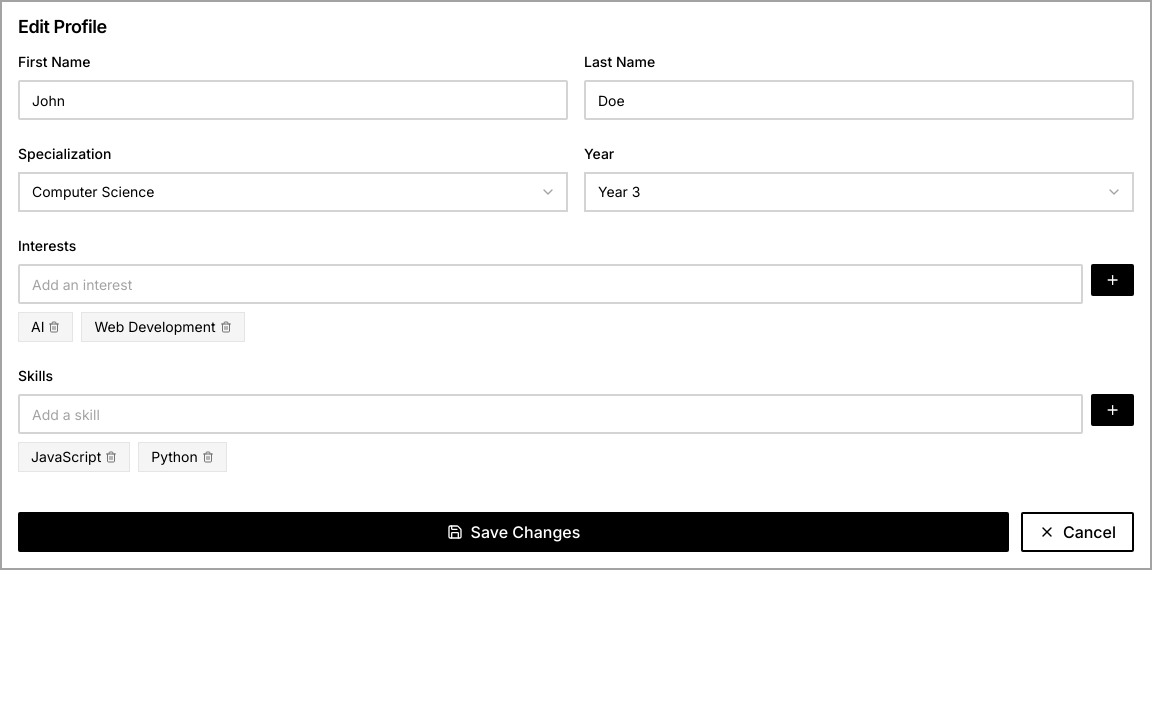
Scenario: ProfileForm › Student Profile Form › allows adding new interests
Type "Machine Learning" into the field with placeholder "Add an interest" at (550, 284), box [18,264,1083,304]
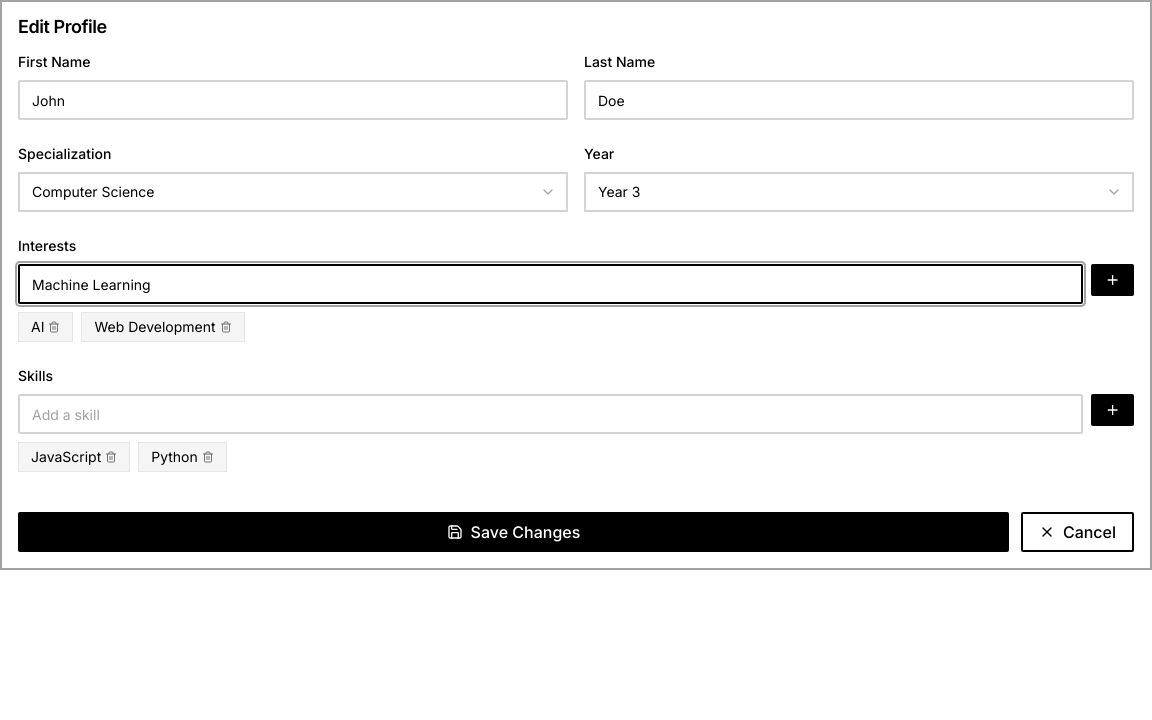
Click the 1st button at (1112, 280), box [1091,264,1134,296]
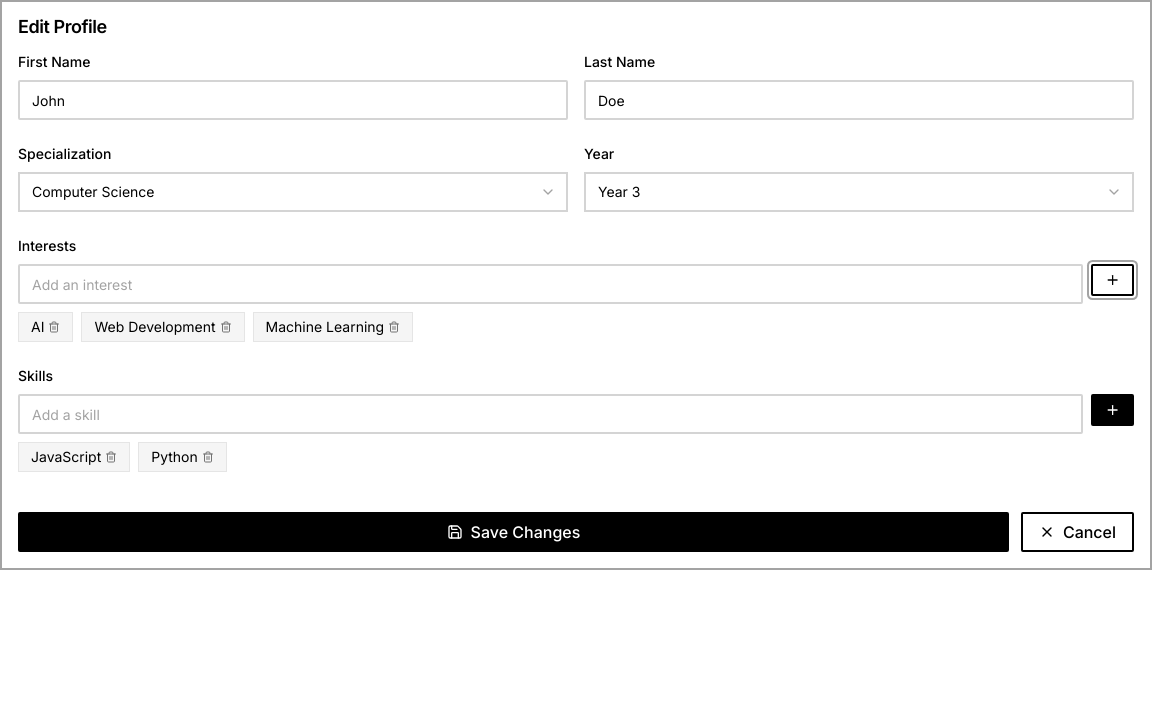
expect the text "Machine Learning" is shown: met, box [266,317,384,337]
